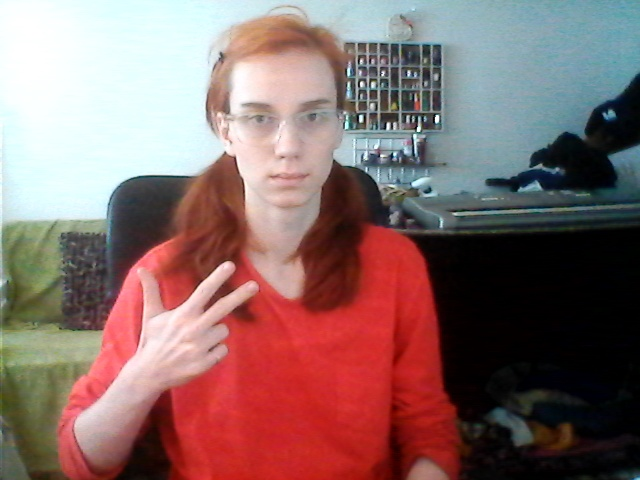tri: (131, 262, 266, 384)
